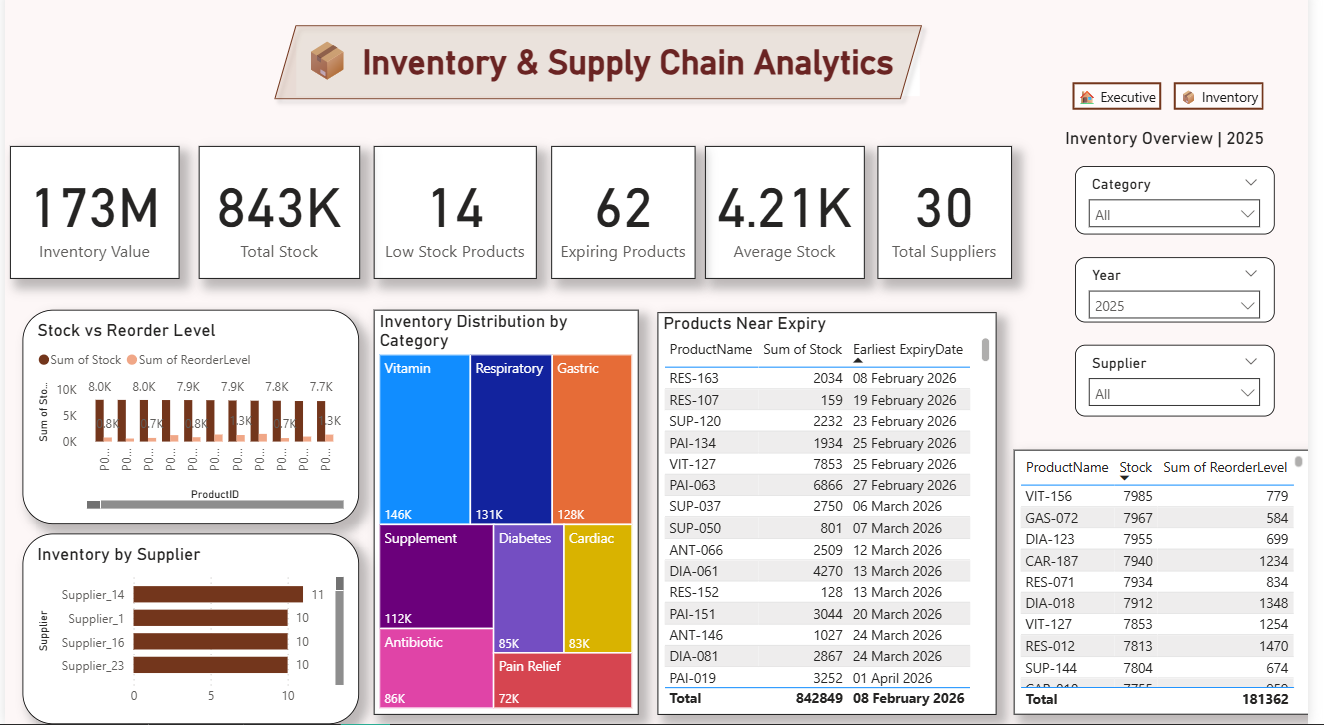

What the dashboard file says about the page in this screenshot:
{"tool":"powerbi","page":{"name":"Page 3","canvas":[1280,720],"ordinal":1},"visuals":[{"type":"textbox","box":[285.9,36.8,612.3,66.3],"z":0},{"type":"card","fields":{"Values":["Measures (3).Inventory Value"]},"box":[5,151.7,166.7,130],"z":1000},{"type":"card","fields":{"Values":["Measures (3).Average Stock"]},"box":[686.7,151.7,156.7,130],"z":2000},{"type":"card","fields":{"Values":["Measures (3).Total Suppliers"]},"box":[856.7,151.7,131.7,130],"z":3000},{"type":"card","fields":{"Values":["Measures (3).Low Stock Products"]},"box":[361.7,151.7,160,130],"z":4000},{"type":"card","fields":{"Values":["Measures (3).Expiring Products"]},"box":[536.7,151.7,141.7,130],"z":5000},{"type":"card","fields":{"Values":["Measures (3).Total Stock"]},"box":[190,151.7,158.3,130],"z":6000},{"type":"clusteredColumnChart","title":"Stock vs Reorder Level","fields":{"Category":["Inventory.ProductID"],"Y":["Sum(Inventory.Stock)","Sum(Inventory.ReorderLevel)"]},"box":[17.5,312.5,330,210],"z":7000},{"type":"treemap","title":"Inventory Distribution by Category","fields":{"Group":["Products.Category"],"Values":["Sum(Inventory.Stock)"]},"box":[362.5,312.5,260,397.5],"z":8000},{"type":"clusteredBarChart","title":"Inventory by Supplier","fields":{"Category":["Inventory.Supplier"],"Y":["CountNonNull(Inventory.Stock)"]},"box":[17.5,532.5,330,187.5],"z":9000},{"type":"tableEx","fields":{"Values":["Products.ProductName","Inventory.Stock","Sum(Inventory.ReorderLevel)"]},"box":[990,450,290,260],"z":10000},{"type":"tableEx","title":"Products Near Expiry","fields":{"Values":["Products.ProductName","Sum(Inventory.Stock)","Inventory.ExpiryDate"]},"box":[640,315,332.5,395],"z":11000},{"type":"slicer","box":[1321.7,181.7,261.7,113.3],"z":12000},{"type":"slicer","fields":{"Values":["Products.Category"]},"box":[1050,171.4,195.7,67.1],"z":13000},{"type":"slicer","fields":{"Values":["DateTable.Year"]},"box":[1050,261.4,195.7,64.3],"z":14000},{"type":"slicer","fields":{"Values":["Inventory.Supplier"]},"box":[1050,347.1,195.7,70],"z":15000},{"type":"shape","box":[255.2,24.5,654,90.8],"z":16000},{"type":"card","fields":{"Values":["Measures (3).Inventory Subtitle"]},"box":[1012.3,128.8,252.8,31.9],"z":17000},{"type":"actionButton","title":"📦 Inventory","box":[1147.2,89.6,88.3,27],"z":18000},{"type":"actionButton","box":[1047.9,89.6,87.1,27],"z":19000}]}

Visuals, with their boxes in screenshot pixels (x1, y1, x2, y2), scaled from the page's 1280x720 canvas onto the 1324x725 screenshot:
textbox: <bbox>296, 37, 929, 104</bbox>
card - Measures (3).Inventory Value: <bbox>5, 153, 178, 284</bbox>
card - Measures (3).Average Stock: <bbox>710, 153, 872, 284</bbox>
card - Measures (3).Total Suppliers: <bbox>886, 153, 1022, 284</bbox>
card - Measures (3).Low Stock Products: <bbox>374, 153, 540, 284</bbox>
card - Measures (3).Expiring Products: <bbox>555, 153, 702, 284</bbox>
card - Measures (3).Total Stock: <bbox>197, 153, 360, 284</bbox>
"Stock vs Reorder Level" clusteredColumnChart: <bbox>18, 315, 359, 526</bbox>
"Inventory Distribution by Category" treemap: <bbox>375, 315, 644, 715</bbox>
"Inventory by Supplier" clusteredBarChart: <bbox>18, 536, 359, 724</bbox>
tableEx - Products.ProductName x Inventory.Stock: <bbox>1024, 453, 1323, 715</bbox>
"Products Near Expiry" tableEx: <bbox>662, 317, 1006, 715</bbox>
slicer - Products.Category: <bbox>1086, 173, 1289, 240</bbox>
slicer - DateTable.Year: <bbox>1086, 263, 1289, 328</bbox>
slicer - Inventory.Supplier: <bbox>1086, 350, 1289, 420</bbox>
shape: <bbox>264, 25, 940, 116</bbox>
card - Measures (3).Inventory Subtitle: <bbox>1047, 130, 1309, 162</bbox>
"📦 Inventory" actionButton: <bbox>1187, 90, 1278, 117</bbox>
actionButton: <bbox>1084, 90, 1174, 117</bbox>
